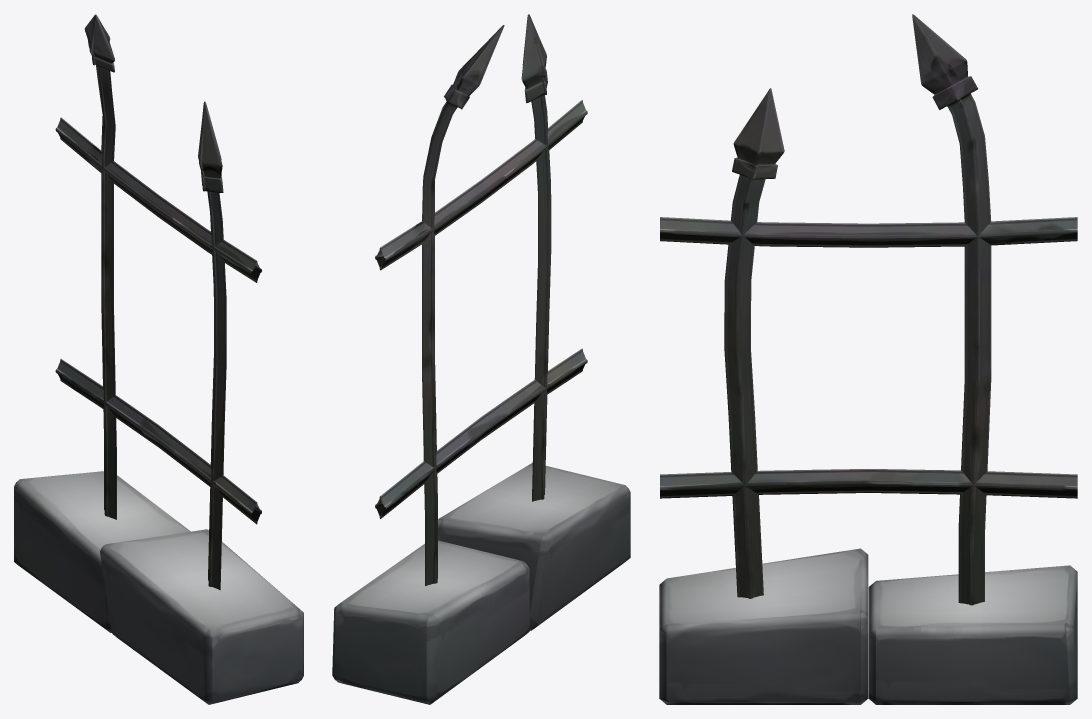
Rendered from Fence2.fbx.
3 renders of one model, left to right at view 1: azimuth 30°, elevation 25°; view 2: azimuth 150°, elevation 25°; view 3: azimuth 270°, elevation 25°, orthographic. The views are drawn at different scales.
Visible parts, largest first — view 1: Fence_2:Mesh; view 2: Fence_2:Mesh; view 3: Fence_2:Mesh.
Boxes of the visible parts, x1,y1,x2,y2 form: Fence_2:Mesh: (14,14,303,704); Fence_2:Mesh: (332,14,630,704); Fence_2:Mesh: (659,14,1077,704).
Bounding box in the file's own units: 0.333 × 1.71 × 1.
